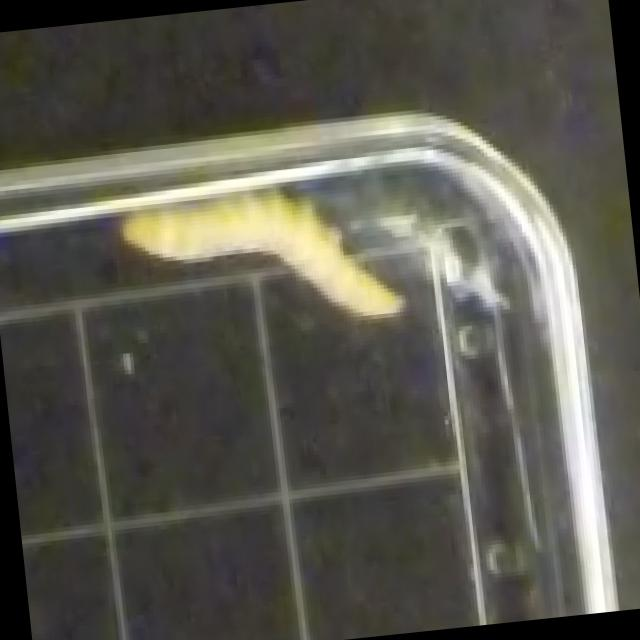larva: (113, 184, 409, 349)
